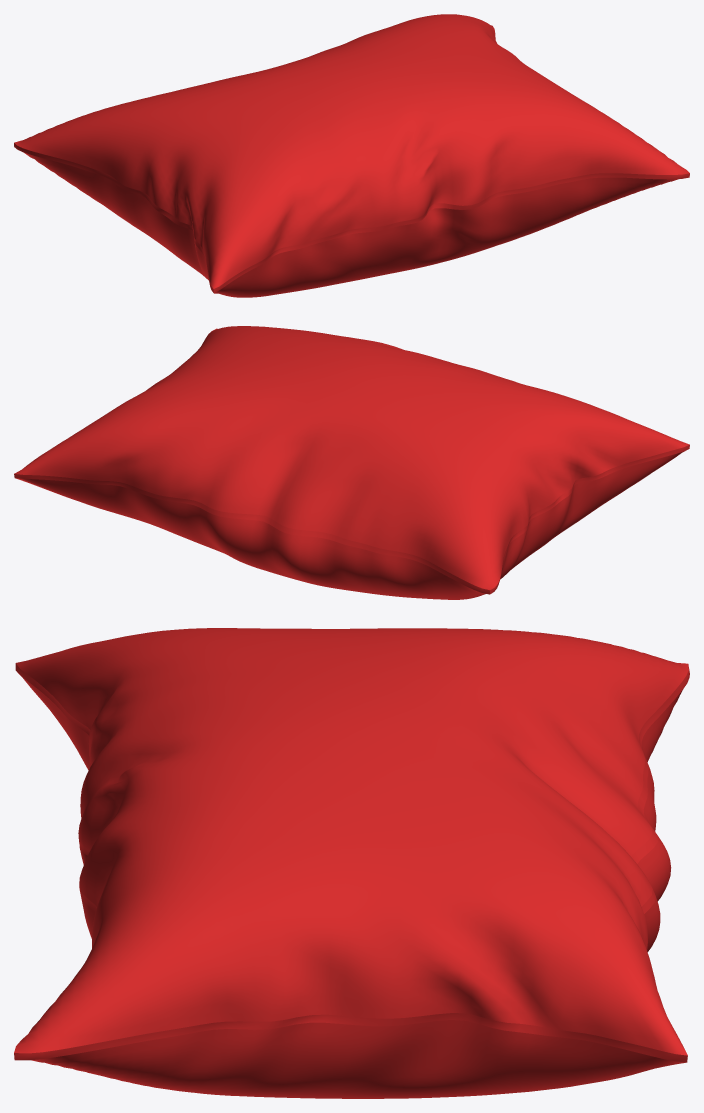
The model's file is Pillow.FBX.
The picture shows the model from 3 angles, top to bottom: view 1: azimuth 30°, elevation 25°; view 2: azimuth 150°, elevation 25°; view 3: azimuth 270°, elevation 25°; orthographic projection. The views are drawn at different scales.
Visible parts, largest first — view 1: Plane004; view 2: Plane004; view 3: Plane004.
Part boxes in pixels (<box>): Plane004: <box>14,14,689,297</box>; Plane004: <box>14,326,689,599</box>; Plane004: <box>14,628,689,1098</box>.
Bounding box in the file's own units: 26.65 × 9.14 × 19.36.
